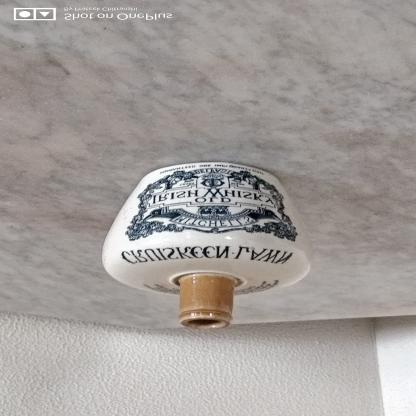bottle: (102, 163, 320, 331)
